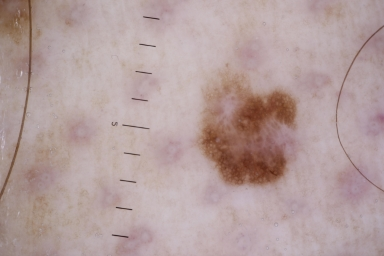nevus: (206, 89, 300, 184)
